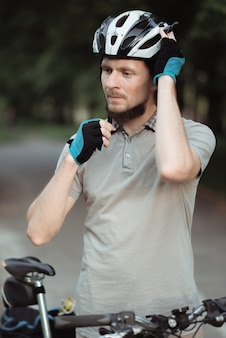helmet: (91, 10, 177, 114)
